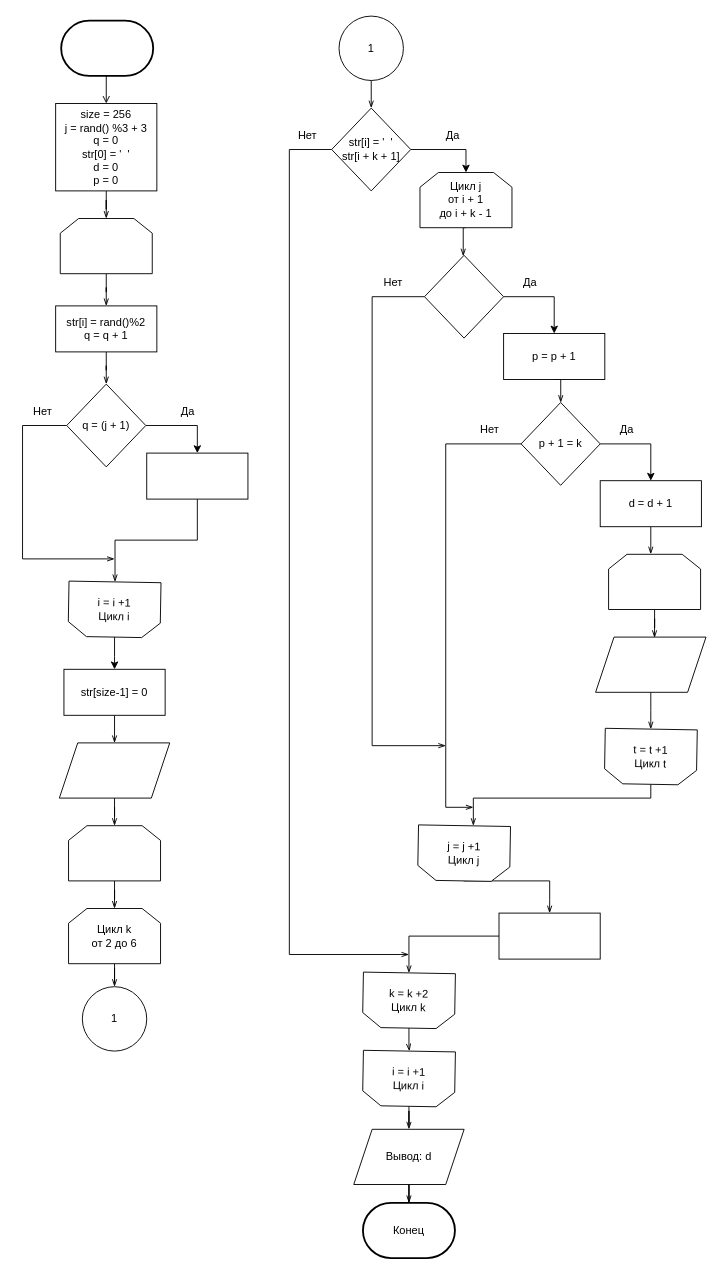
Some shapes in this 722 by 1275 pixel diagram are drawn without their labels. Each missing label, with the centre of its shape:
"p = 0" goes at point (549, 935).
"str[i] = ' ' j = rand() %3 + 3 q = 0" goes at point (197, 475).
"str[j] = str[j+1]" goes at point (464, 296).
"Вход" goes at point (107, 47).
"Вывод: str" goes at point (114, 770).
"Вывод: str[t]" goes at point (650, 664).
"Цикл i от 0 до (size - 1)" goes at point (114, 853).
"Цикл i от 1 до (size - 1)" goes at point (105, 246).
"Цикл t от (i + 1) до (i + k)" goes at point (654, 581).
